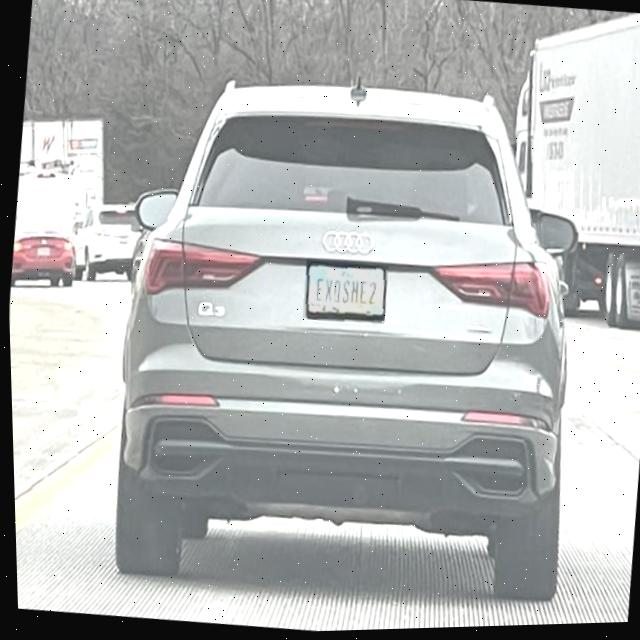LicensePlate: (303, 264, 384, 324)
